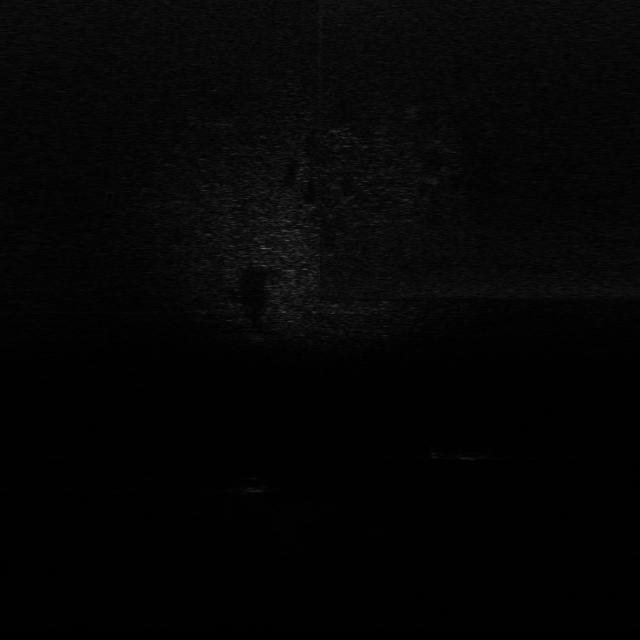ball: (244, 473, 270, 495)
human body: (427, 444, 498, 464)
